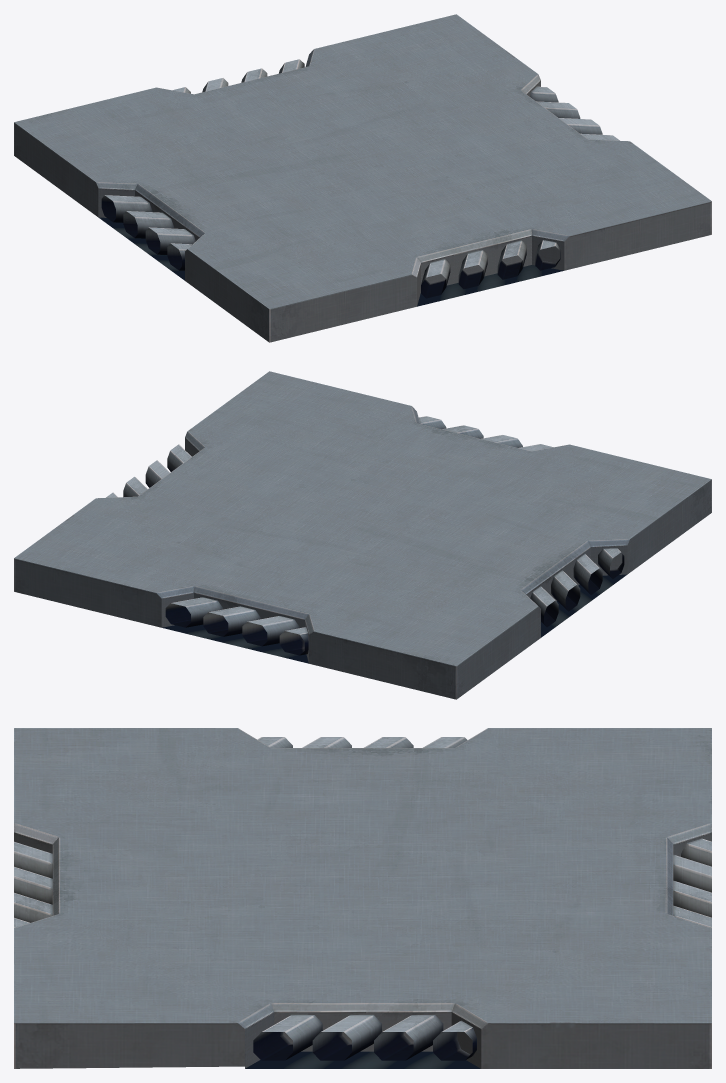
File: DS_SM0008_Scifi_Room_FloorPipeCenter_01.fbx
The picture shows the model from 3 angles, top to bottom: view 1: azimuth 30°, elevation 25°; view 2: azimuth 150°, elevation 25°; view 3: azimuth 270°, elevation 25°; orthographic projection. The views are drawn at different scales.
Parts seen in each view (by area): view 1: DS_SM0008_Scifi_Room_FloorPipeCenter_01_LP; view 2: DS_SM0008_Scifi_Room_FloorPipeCenter_01_LP; view 3: DS_SM0008_Scifi_Room_FloorPipeCenter_01_LP.
Boxes of the visible parts, x1=… form: DS_SM0008_Scifi_Room_FloorPipeCenter_01_LP: x1=14, y1=14, x2=711, y2=342; DS_SM0008_Scifi_Room_FloorPipeCenter_01_LP: x1=14, y1=371, x2=711, y2=699; DS_SM0008_Scifi_Room_FloorPipeCenter_01_LP: x1=14, y1=728, x2=711, y2=1068.
Size of the model in its own units: 400 by 28.95 by 400.
